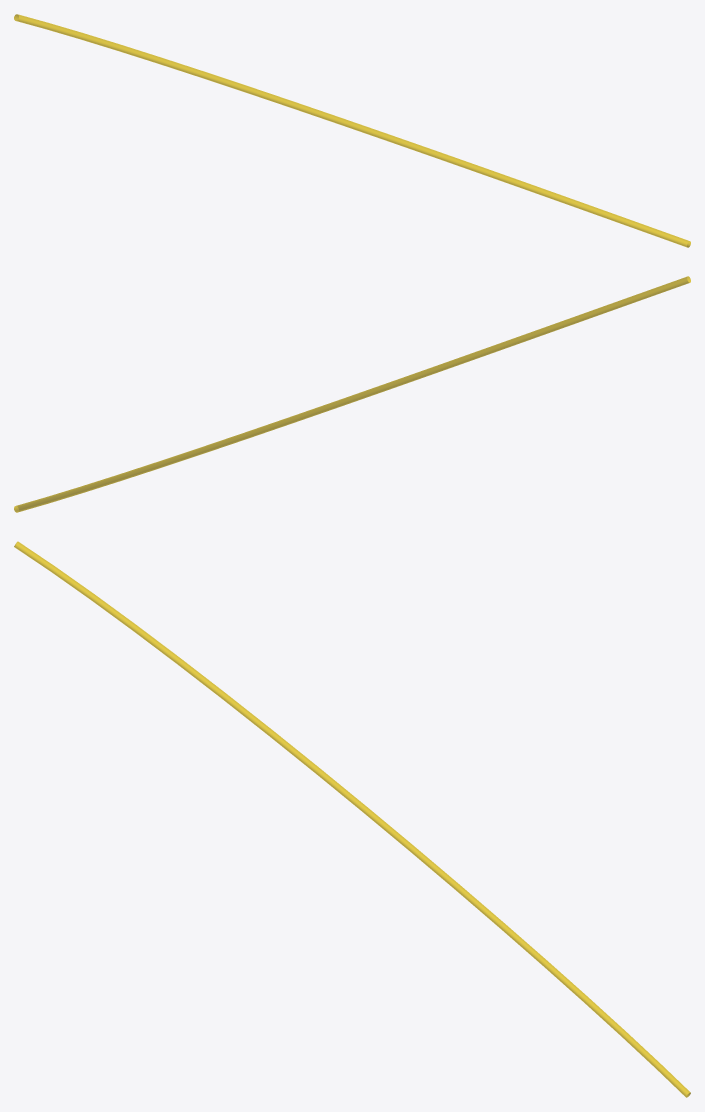
File: Event_84804159_track_17.fbx
3 views of the same model, one above another, from view 1: azimuth 30°, elevation 25°; view 2: azimuth 150°, elevation 25°; view 3: azimuth 330°, elevation 25° (orthographic).
Parts seen in each view (by area): view 1: Model; view 2: Model; view 3: Model.
Boxes of the visible parts, x1,y1,x2,y2 form: Model: (14,14,690,247); Model: (14,276,690,512); Model: (14,541,690,1097).
Size of the model in its own units: 4.49 by 2.53 by 0.21.
